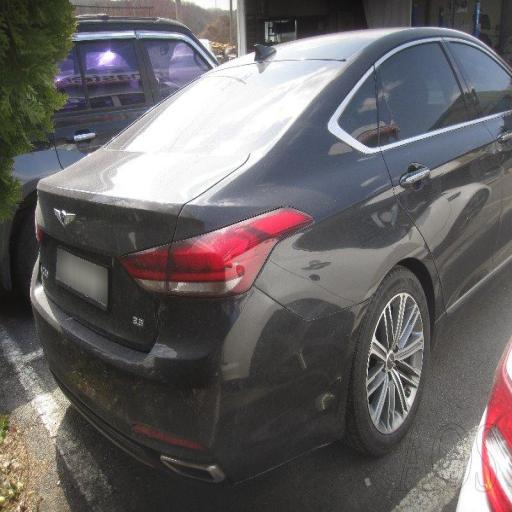scratch: (36, 246, 229, 462), (287, 155, 416, 292), (269, 302, 359, 436)
